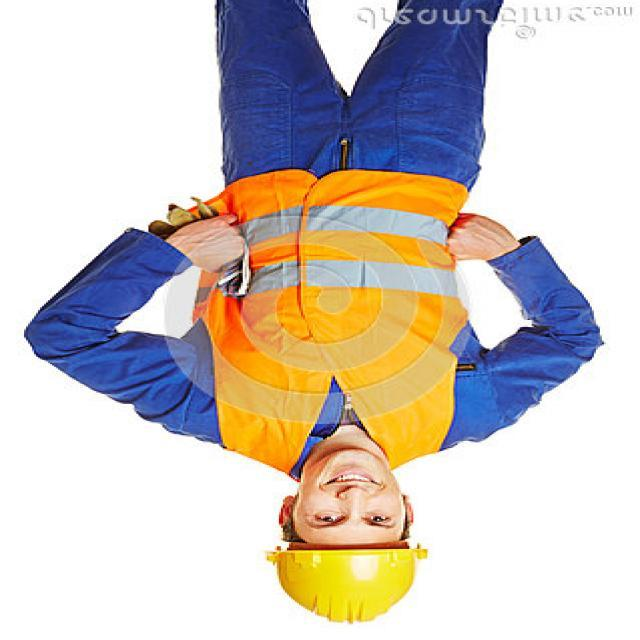safetyhelmet: (249, 445, 438, 632)
